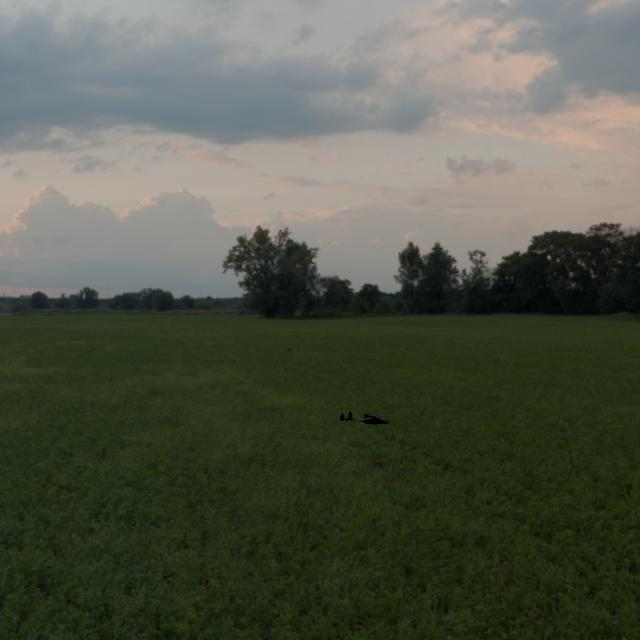Airaplan: (340, 412, 390, 425)
